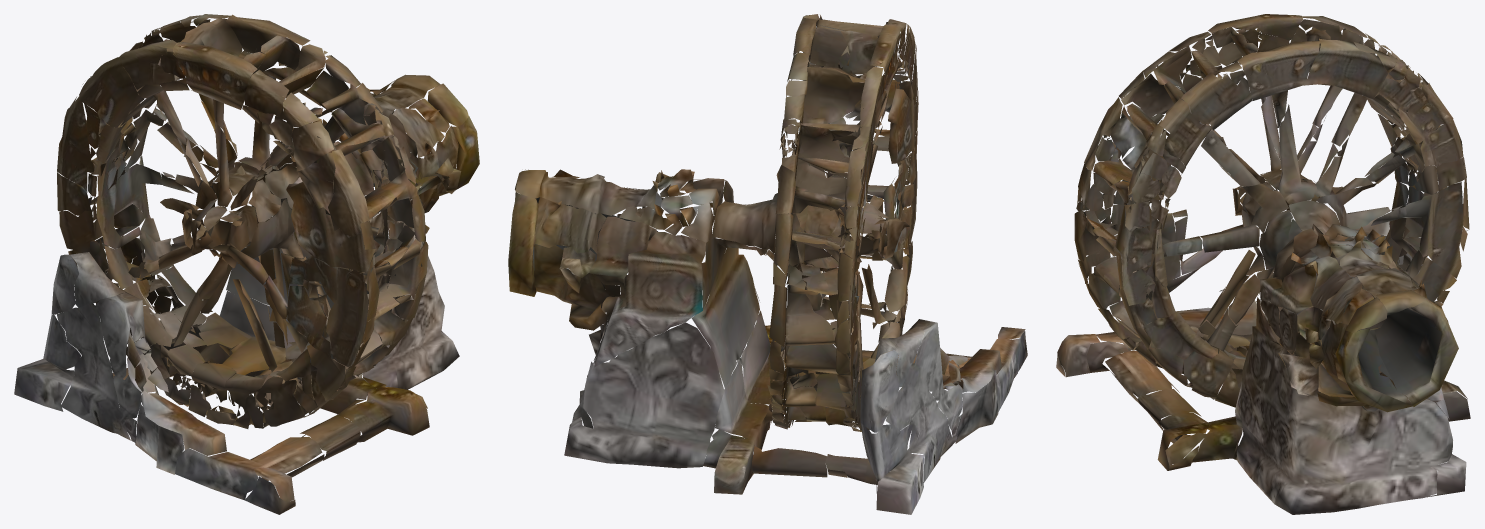
File: prop_vaelor_turbine_wheel_LOD1.glb
3 renders of one model, left to right at view 1: azimuth 30°, elevation 25°; view 2: azimuth 150°, elevation 25°; view 3: azimuth 270°, elevation 25°, orthographic. The views are drawn at different scales.
Parts seen in each view (by area): view 1: tripo_node_53d2a571-26fc-474f-be46-1b7faa536caf; view 2: tripo_node_53d2a571-26fc-474f-be46-1b7faa536caf; view 3: tripo_node_53d2a571-26fc-474f-be46-1b7faa536caf.
Boxes of the visible parts, box(x1,y1,x2,y2) form: tripo_node_53d2a571-26fc-474f-be46-1b7faa536caf: box(14, 14, 479, 514); tripo_node_53d2a571-26fc-474f-be46-1b7faa536caf: box(508, 14, 1027, 514); tripo_node_53d2a571-26fc-474f-be46-1b7faa536caf: box(1056, 14, 1470, 514).
Bounding box in the file's own units: 1 × 0.8763 × 0.8727.
1 material, 1 textured.
